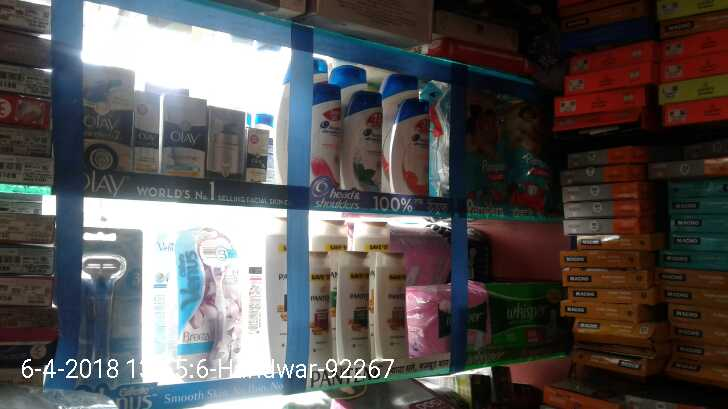venus: (169, 231, 239, 379), (82, 228, 139, 382)
